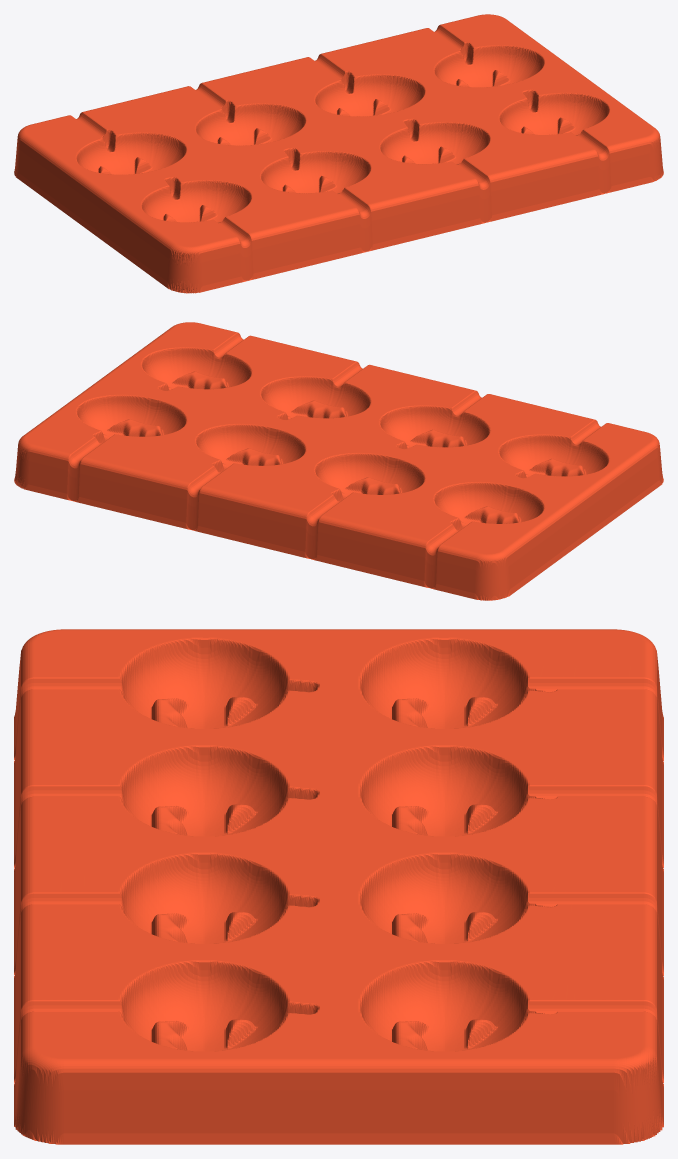
Rendered from mold.glb.
The picture shows the model from 3 angles, top to bottom: view 1: azimuth 30°, elevation 25°; view 2: azimuth 150°, elevation 25°; view 3: azimuth 270°, elevation 25°; orthographic projection. The views are drawn at different scales.
Parts seen in each view (by area): view 1: geometry_0; view 2: geometry_0; view 3: geometry_0.
Boxes of the visible parts, x1=… form: geometry_0: x1=14, y1=14, x2=663, y2=293; geometry_0: x1=14, y1=322, x2=663, y2=600; geometry_0: x1=14, y1=629, x2=663, y2=1144.
Bounding box in the file's own units: 0.1907 × 0.0155 × 0.1178.
